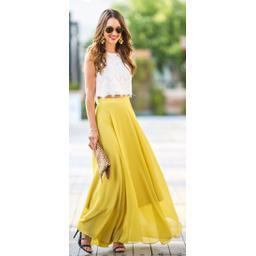Tshirt: (94, 40, 133, 98)
skirt: (78, 98, 180, 246)
